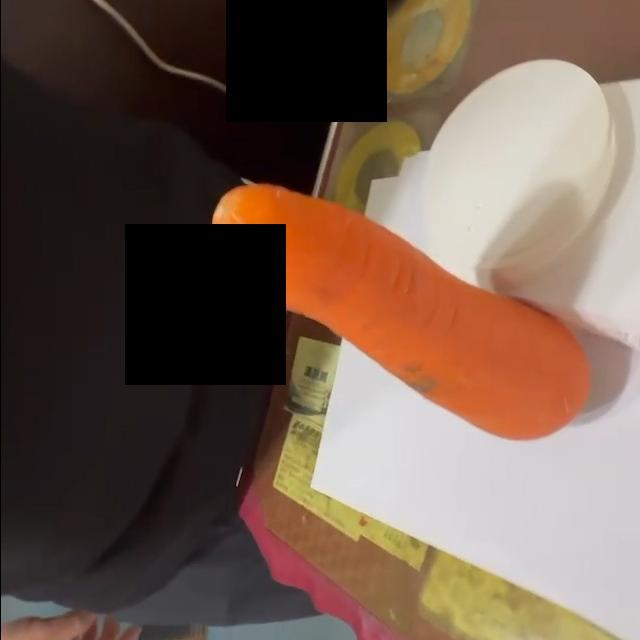carrot: (204, 183, 591, 446)
